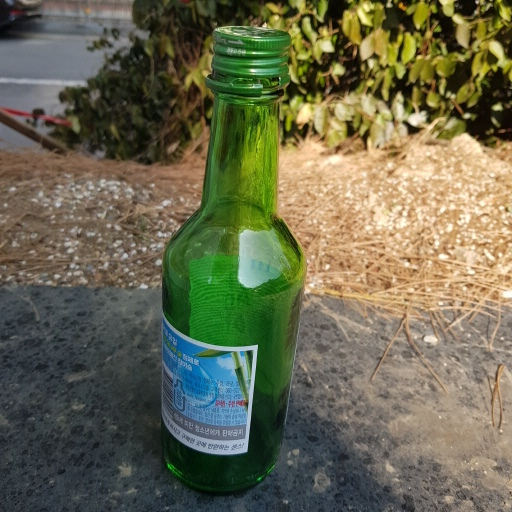Glass_0: (152, 24, 309, 492)
